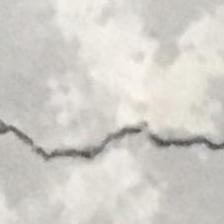Crack: (0, 107, 224, 164)
